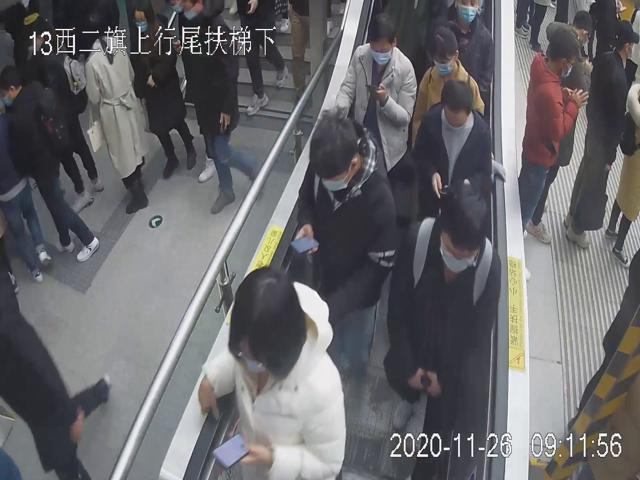person: (382, 180, 503, 480), (198, 261, 345, 480), (291, 103, 398, 380), (562, 16, 640, 251), (332, 11, 417, 197), (411, 80, 493, 223), (410, 22, 485, 148)
